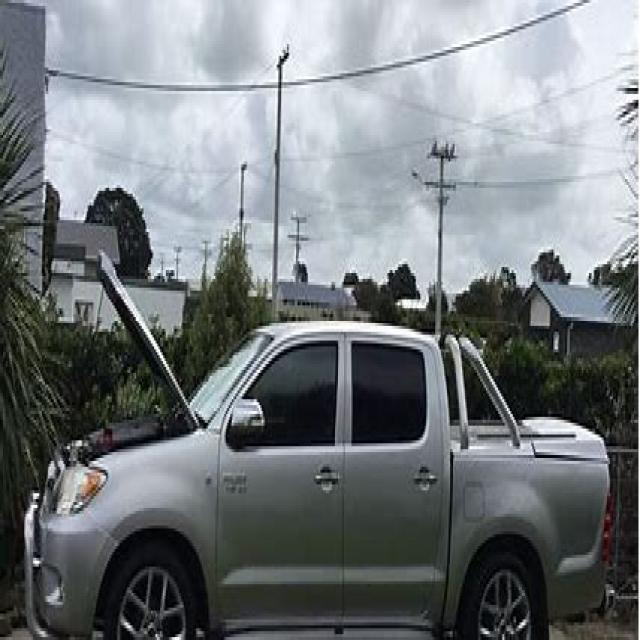light_vehicle: (20, 238, 619, 637)
